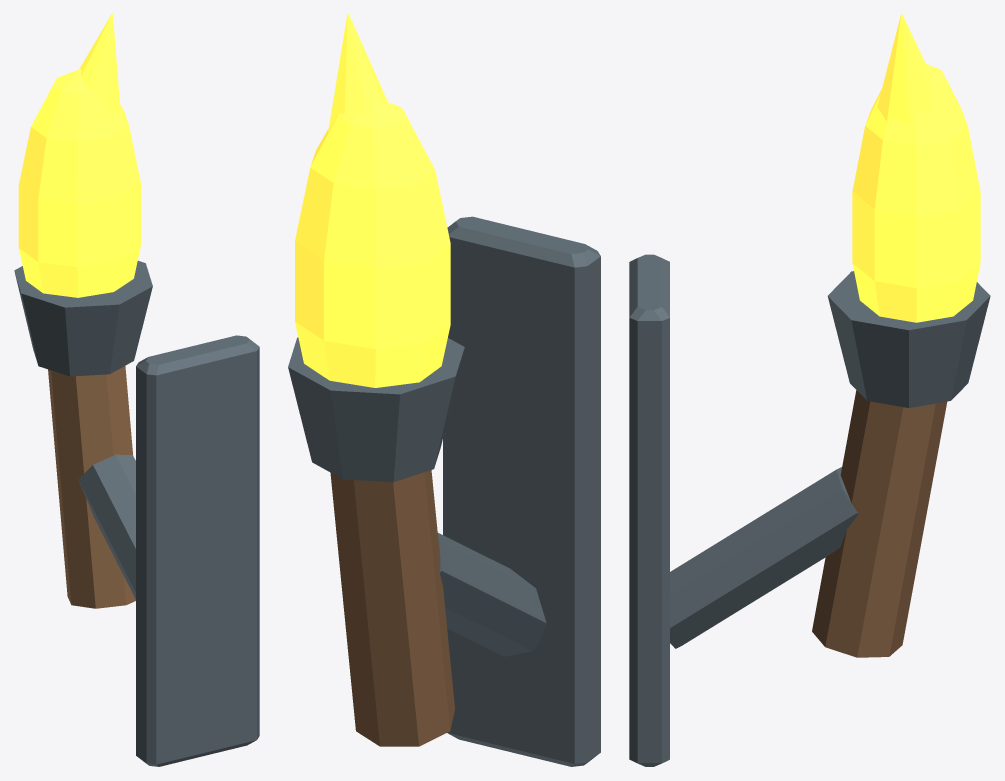
Rendered from source.glb.
The picture shows the model from 3 angles, left to right: view 1: azimuth 30°, elevation 25°; view 2: azimuth 150°, elevation 25°; view 3: azimuth 270°, elevation 25°; orthographic projection. The views are drawn at different scales.
Visible parts, largest first — view 1: body; view 2: body; view 3: body.
Part boxes in pixels (box(x1,y1,x2,y2)): body: box(14, 14, 259, 766); body: box(288, 14, 600, 766); body: box(629, 14, 990, 766).
Bounding box in the file's own units: 0.22 × 1.1 × 0.4875.
